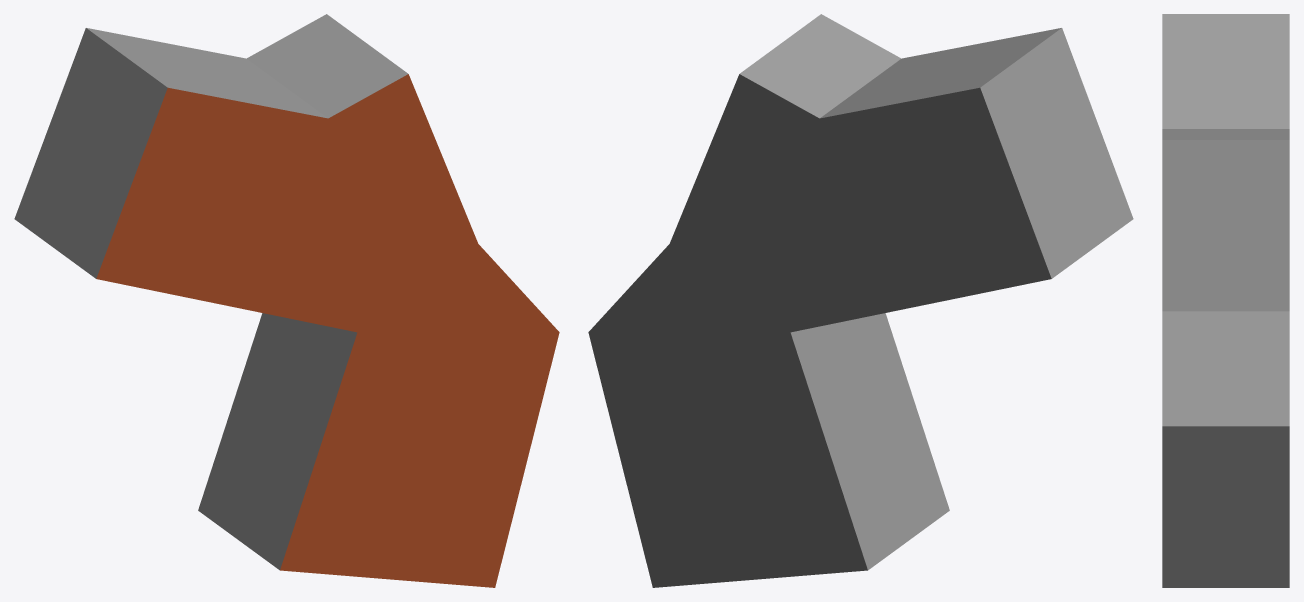
The model's file is construction_4395_assumed_A_Casa_h6m.obj.
3 views of the same model, side by side, from view 1: azimuth 30°, elevation 25°; view 2: azimuth 150°, elevation 25°; view 3: azimuth 270°, elevation 25° (orthographic). The views are drawn at different scales.
Visible parts, largest first — view 1: construction_4395_assumed_A_Casa; view 2: construction_4395_assumed_A_Casa; view 3: construction_4395_assumed_A_Casa.
Boxes of the visible parts, x1,y1,x2,y2 form: construction_4395_assumed_A_Casa: [14, 14, 559, 587]; construction_4395_assumed_A_Casa: [588, 14, 1133, 587]; construction_4395_assumed_A_Casa: [1162, 14, 1289, 587].
Size of the model in its own units: 19.6 by 23.45 by 6.
